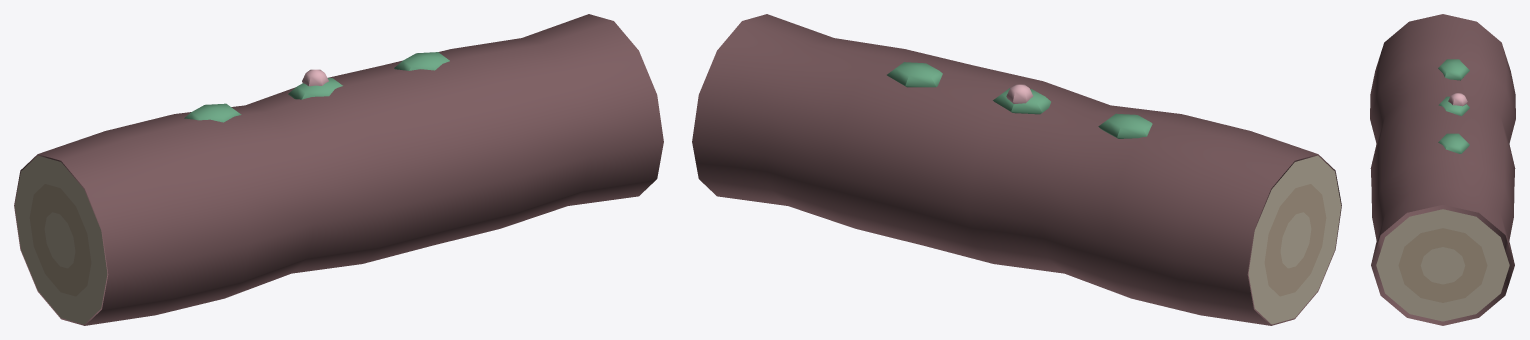
Rendered from firewood_log.glb.
The picture shows the model from 3 angles, left to right: view 1: azimuth 30°, elevation 25°; view 2: azimuth 150°, elevation 25°; view 3: azimuth 270°, elevation 25°; orthographic projection. The views are drawn at different scales.
Parts seen in each view (by area): view 1: firewood_log; view 2: firewood_log; view 3: firewood_log.
Part boxes in pixels (left/top/right/bottom): firewood_log: left=14, top=14, right=663, bottom=325; firewood_log: left=692, top=14, right=1341, bottom=325; firewood_log: left=1370, top=14, right=1515, bottom=325.
Size of what is drawn, in the model's own units: 0.95 by 0.3 by 0.3.
